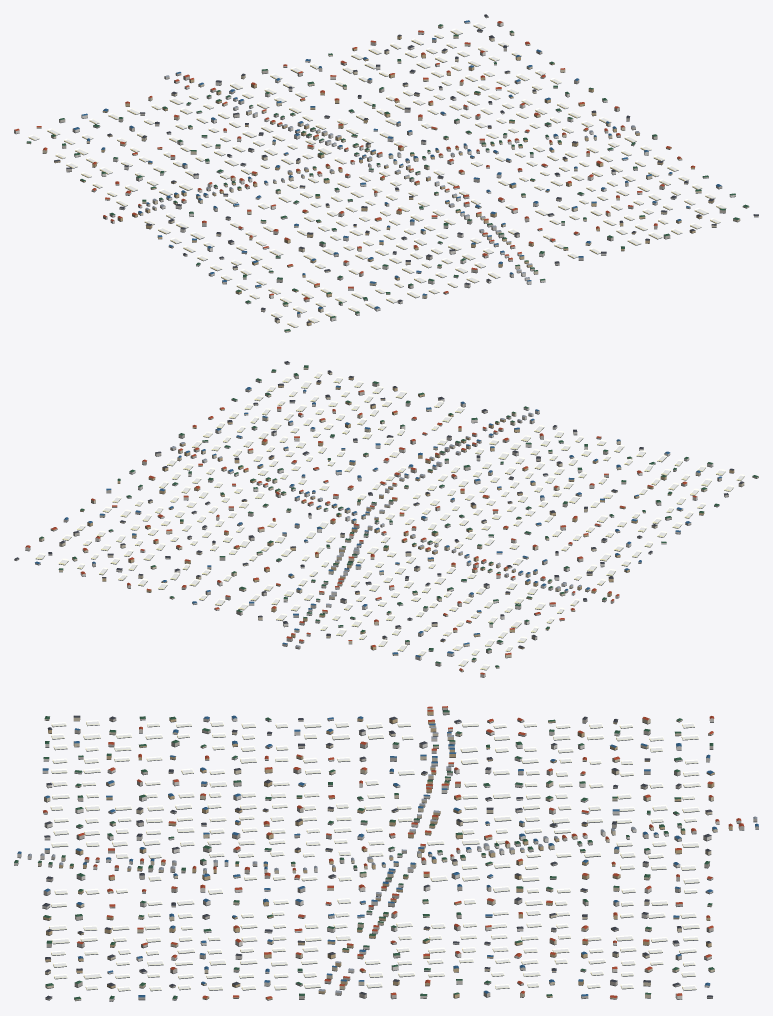
Rendered from buildings_T_W04_N01.glb.
The picture shows the model from 3 angles, top to bottom: view 1: azimuth 30°, elevation 25°; view 2: azimuth 150°, elevation 25°; view 3: azimuth 270°, elevation 25°; orthographic projection. The views are drawn at different scales.
Parts seen in each view (by area): view 1: T_W04_N01_roofs_agri_greenhouse_arch, T_W04_N01_slope_seating_foundations, T_W04_N01_walls_wall_pastel_sand_gray, T_W04_N01_walls_wall_modern_warm_white, T_W04_N01_walls_wall_french_ochre_villa, T_W04_N01_walls_wall_dalat_cream_stucco, T_W04_N01_roofs_roof_terracotta_gable, T_W04_N01_roofs_roof_pine_green_hip, T_W04_N01_roofs_roof_highland_blue_gable, T_W04_N01_roofs_roof_slate_French_villa_hip, T_W04_N01_roofs_roof_zinc_silver_gable; view 2: T_W04_N01_roofs_agri_greenhouse_arch, T_W04_N01_slope_seating_foundations, T_W04_N01_walls_wall_pastel_sand_gray, T_W04_N01_walls_wall_french_ochre_villa, T_W04_N01_walls_wall_modern_warm_white, T_W04_N01_walls_wall_dalat_cream_stucco, T_W04_N01_roofs_roof_terracotta_gable, T_W04_N01_roofs_roof_pine_green_hip, T_W04_N01_roofs_roof_highland_blue_gable, T_W04_N01_roofs_roof_slate_French_villa_hip; view 3: T_W04_N01_roofs_agri_greenhouse_arch, T_W04_N01_slope_seating_foundations, T_W04_N01_walls_wall_pastel_sand_gray, T_W04_N01_walls_wall_modern_warm_white, T_W04_N01_walls_wall_french_ochre_villa, T_W04_N01_walls_wall_dalat_cream_stucco, T_W04_N01_roofs_roof_terracotta_gable, T_W04_N01_roofs_roof_pine_green_hip, T_W04_N01_roofs_roof_highland_blue_gable, T_W04_N01_roofs_roof_slate_French_villa_hip, T_W04_N01_roofs_roof_zinc_silver_gable.
Part boxes in pixels (x1,y1,x2,y2): T_W04_N01_roofs_agri_greenhouse_arch: (28, 22, 726, 327); T_W04_N01_slope_seating_foundations: (14, 16, 758, 332); T_W04_N01_walls_wall_pastel_sand_gray: (59, 16, 758, 316); T_W04_N01_walls_wall_modern_warm_white: (14, 21, 735, 320); T_W04_N01_walls_wall_french_ochre_villa: (54, 36, 714, 325); T_W04_N01_walls_wall_dalat_cream_stucco: (26, 25, 749, 332); T_W04_N01_roofs_roof_terracotta_gable: (14, 21, 695, 299); T_W04_N01_roofs_roof_pine_green_hip: (26, 24, 748, 331); T_W04_N01_roofs_roof_highland_blue_gable: (73, 20, 721, 313); T_W04_N01_roofs_roof_slate_French_villa_hip: (54, 14, 758, 322); T_W04_N01_roofs_roof_zinc_silver_gable: (145, 75, 639, 278); T_W04_N01_roofs_agri_greenhouse_arch: (35, 372, 744, 669); T_W04_N01_slope_seating_foundations: (14, 363, 758, 677); T_W04_N01_walls_wall_pastel_sand_gray: (14, 362, 728, 666); T_W04_N01_walls_wall_french_ochre_villa: (80, 377, 734, 655); T_W04_N01_walls_wall_modern_warm_white: (25, 379, 713, 677); T_W04_N01_walls_wall_dalat_cream_stucco: (39, 366, 758, 671); T_W04_N01_roofs_roof_terracotta_gable: (25, 390, 696, 674); T_W04_N01_roofs_roof_pine_green_hip: (39, 365, 758, 667); T_W04_N01_roofs_roof_highland_blue_gable: (35, 385, 721, 657); T_W04_N01_roofs_roof_slate_French_villa_hip: (14, 361, 743, 647); T_W04_N01_roofs_agri_greenhouse_arch: (49, 720, 700, 990); T_W04_N01_slope_seating_foundations: (14, 709, 758, 1001); T_W04_N01_walls_wall_pastel_sand_gray: (43, 707, 758, 999); T_W04_N01_walls_wall_modern_warm_white: (14, 708, 719, 1001); T_W04_N01_walls_wall_french_ochre_villa: (43, 711, 732, 999); T_W04_N01_walls_wall_dalat_cream_stucco: (38, 717, 717, 1000); T_W04_N01_roofs_roof_terracotta_gable: (43, 706, 744, 998); T_W04_N01_roofs_roof_pine_green_hip: (14, 710, 714, 999); T_W04_N01_roofs_roof_highland_blue_gable: (17, 715, 758, 997); T_W04_N01_roofs_roof_slate_French_villa_hip: (42, 715, 712, 998); T_W04_N01_roofs_roof_zinc_silver_gable: (28, 726, 757, 992).
Size of the model in its own units: 1818 by 29.35 by 1938.
